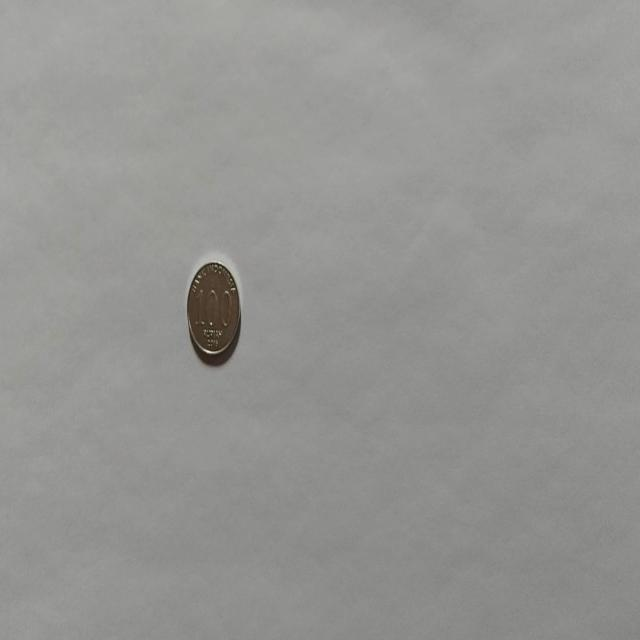seratus rupiah: (186, 258, 240, 362)
